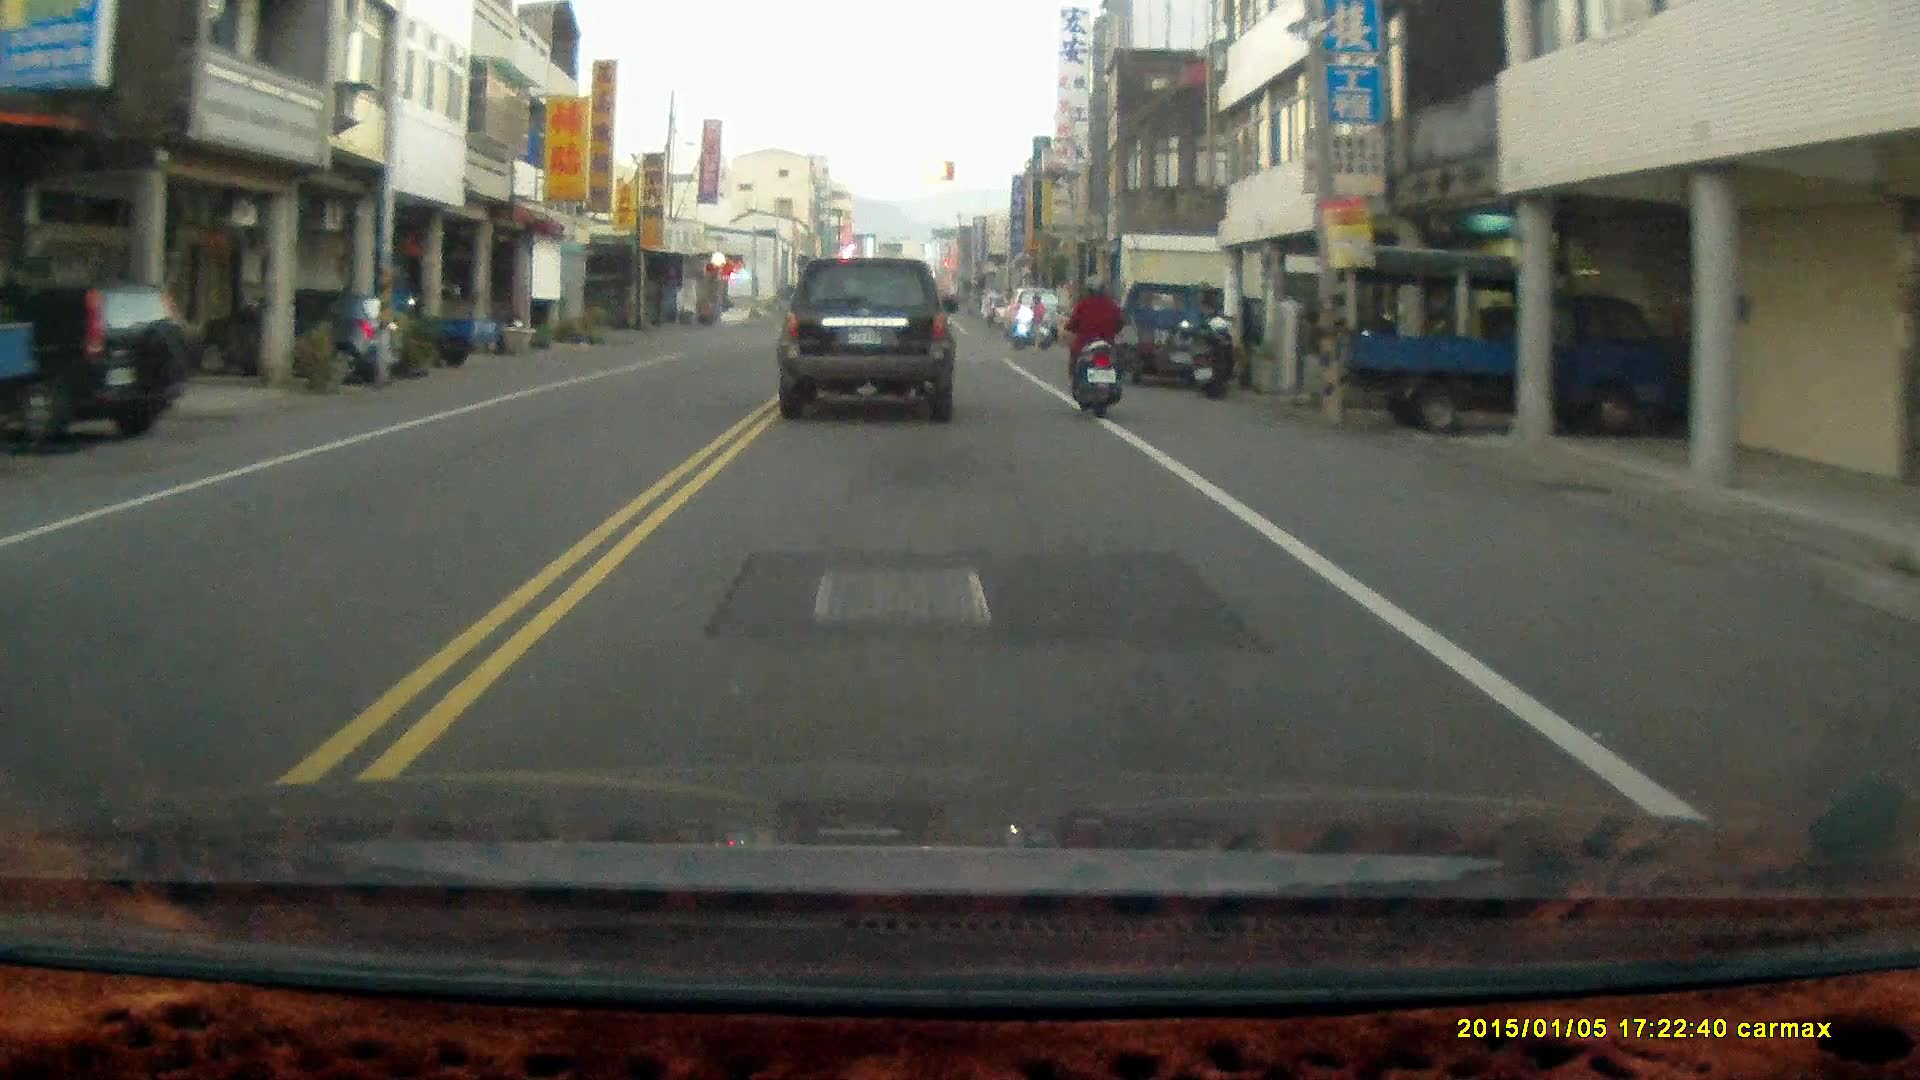rider: (1068, 268, 1123, 419), (1006, 292, 1048, 348)
vehicle: (1331, 245, 1681, 433), (1, 277, 198, 456), (776, 255, 957, 425), (193, 286, 401, 381), (1105, 271, 1235, 383)
